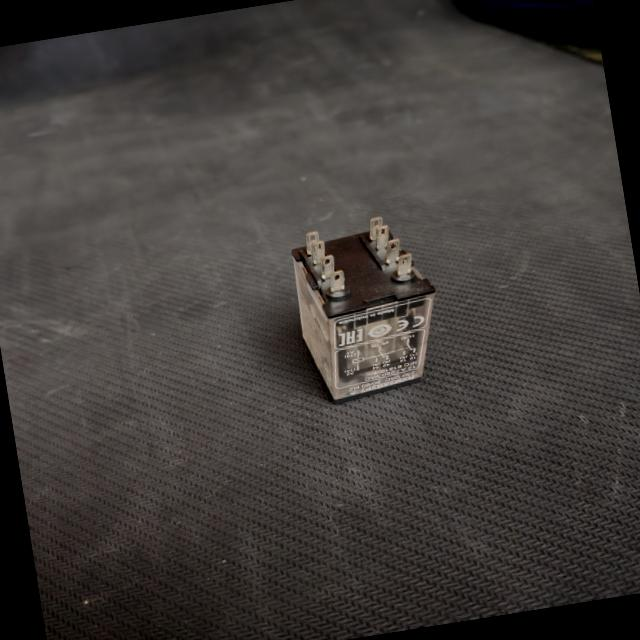relay: (266, 202, 454, 414)
